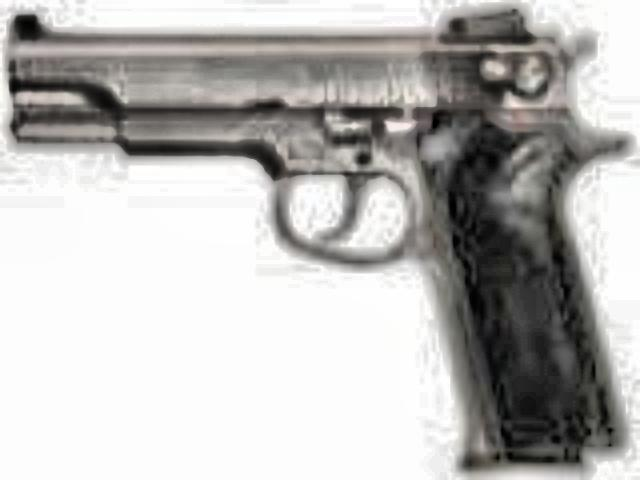pistol: (4, 8, 628, 468)
